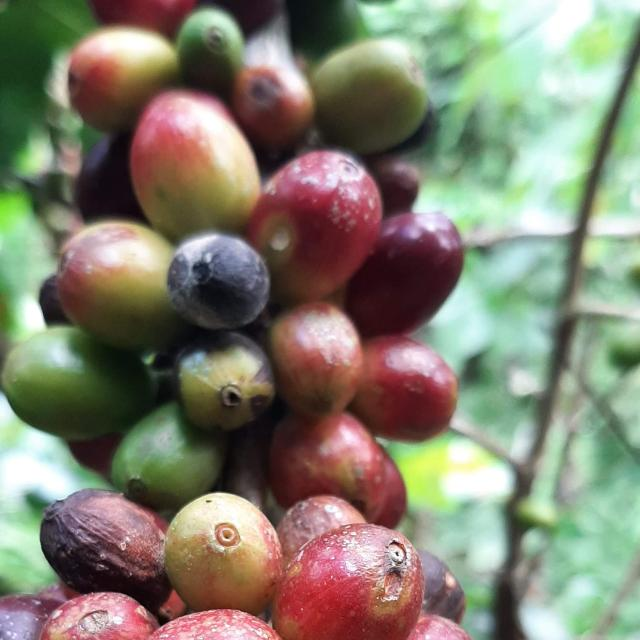green: (1, 326, 153, 441), (311, 39, 428, 153), (111, 402, 226, 511), (177, 6, 244, 94)
red: (39, 490, 171, 612), (346, 212, 465, 337), (167, 232, 270, 330), (177, 333, 275, 431), (418, 551, 466, 625), (0, 596, 58, 640)
yellow: (247, 150, 383, 304), (129, 88, 260, 241), (273, 525, 424, 640), (56, 220, 184, 350), (269, 413, 407, 529), (164, 493, 282, 616), (67, 25, 179, 132), (351, 335, 458, 442), (269, 302, 363, 418), (231, 64, 314, 150), (277, 495, 366, 571), (38, 593, 159, 640), (147, 610, 281, 640), (408, 616, 473, 640)
